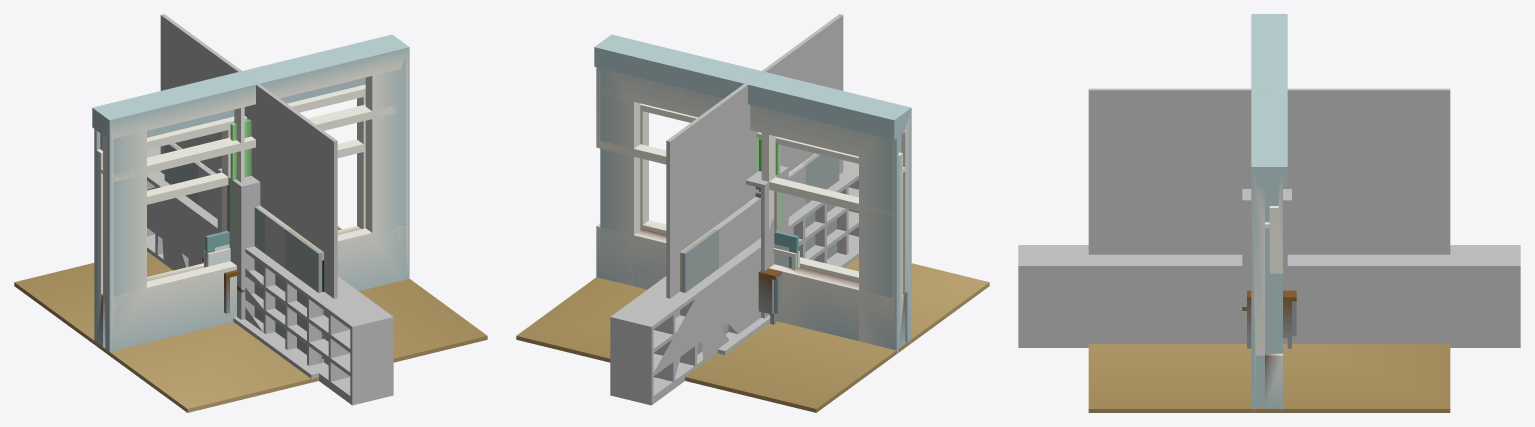
Rendered from ClassRoom.fbx.
3 renders of one model, left to right at view 1: azimuth 30°, elevation 25°; view 2: azimuth 150°, elevation 25°; view 3: azimuth 270°, elevation 25°, orthographic. The views are drawn at different scales.
Parts seen in each view (by area): view 1: wall-groundside-A, floor, wall-groundside-B, wall-flat, woodRocker-B, wall-doorA, wall-doorB, woodRocker-A, rockerBox, blackbord-A, blackbord-B, stage-B (+5 smaller); view 2: wall-doorB, floor, wall-doorA, wall-flat, woodRocker-A, wall-groundside-A, wall-groundside-B, woodRocker-B, blackbord-A, blackbord-B, rockerBox, teachersDesk (+3 smaller); view 3: wall-flat, woodRocker-A, floor, woodRocker-B, wall-doorA, wall-groundside-B, wall-doorB, wall-groundside-A, rockerBox, teachersDesk, stage-B.
Boxes of the visible parts, x1,y1,x2,y2 form: wall-groundside-A: [92, 35, 405, 352]; floor: [14, 226, 487, 412]; wall-groundside-B: [97, 34, 409, 348]; wall-flat: [160, 14, 337, 365]; woodRocker-B: [263, 260, 393, 405]; wall-doorA: [94, 44, 403, 346]; wall-doorB: [98, 36, 406, 234]; woodRocker-A: [147, 146, 272, 332]; rockerBox: [217, 168, 260, 319]; blackbord-A: [164, 143, 323, 363]; blackbord-B: [198, 164, 284, 267]; stage-B: [233, 317, 318, 378]; wall-doorB: [596, 36, 905, 348]; floor: [516, 257, 989, 412]; wall-doorA: [600, 37, 908, 353]; wall-flat: [666, 14, 843, 362]; woodRocker-A: [610, 214, 802, 405]; wall-groundside-A: [598, 35, 911, 344]; wall-groundside-B: [594, 34, 907, 281]; woodRocker-B: [793, 160, 858, 263]; blackbord-A: [680, 153, 839, 358]; blackbord-B: [714, 166, 805, 330]; rockerBox: [746, 165, 788, 318]; teachersDesk: [758, 268, 781, 324]; wall-flat: [1088, 88, 1450, 254]; woodRocker-A: [1204, 245, 1520, 347]; floor: [1088, 344, 1450, 412]; woodRocker-B: [1018, 245, 1203, 347]; wall-doorA: [1256, 14, 1282, 406]; wall-groundside-B: [1251, 16, 1287, 412]; wall-doorB: [1256, 16, 1282, 412]; wall-groundside-A: [1251, 14, 1287, 406]; rockerBox: [1242, 189, 1291, 343]; teachersDesk: [1247, 290, 1296, 348]; stage-B: [1089, 339, 1287, 343].
Bounding box in the file's own units: 800 × 709 × 1110.
